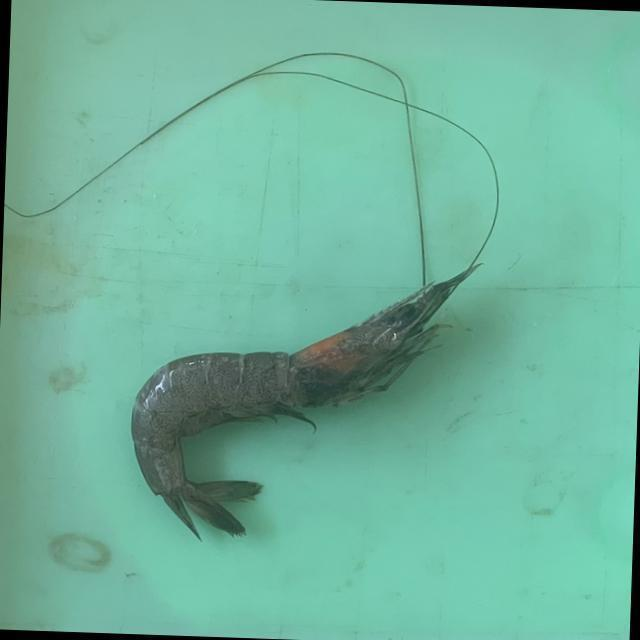shrimp: (131, 265, 477, 536)
